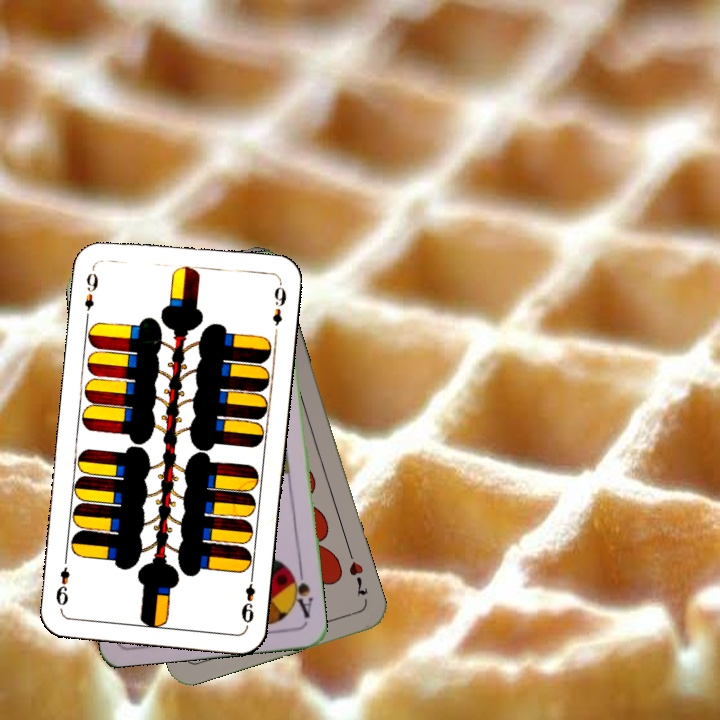E9: (80, 262, 101, 321), (237, 569, 258, 626)
H7: (344, 546, 371, 598)
SA: (286, 564, 316, 621)
